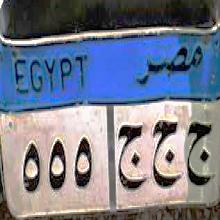5: (71, 124, 97, 196), (47, 127, 68, 194), (23, 130, 42, 196)
jeem: (182, 112, 216, 196), (150, 114, 180, 192), (117, 117, 147, 193)
